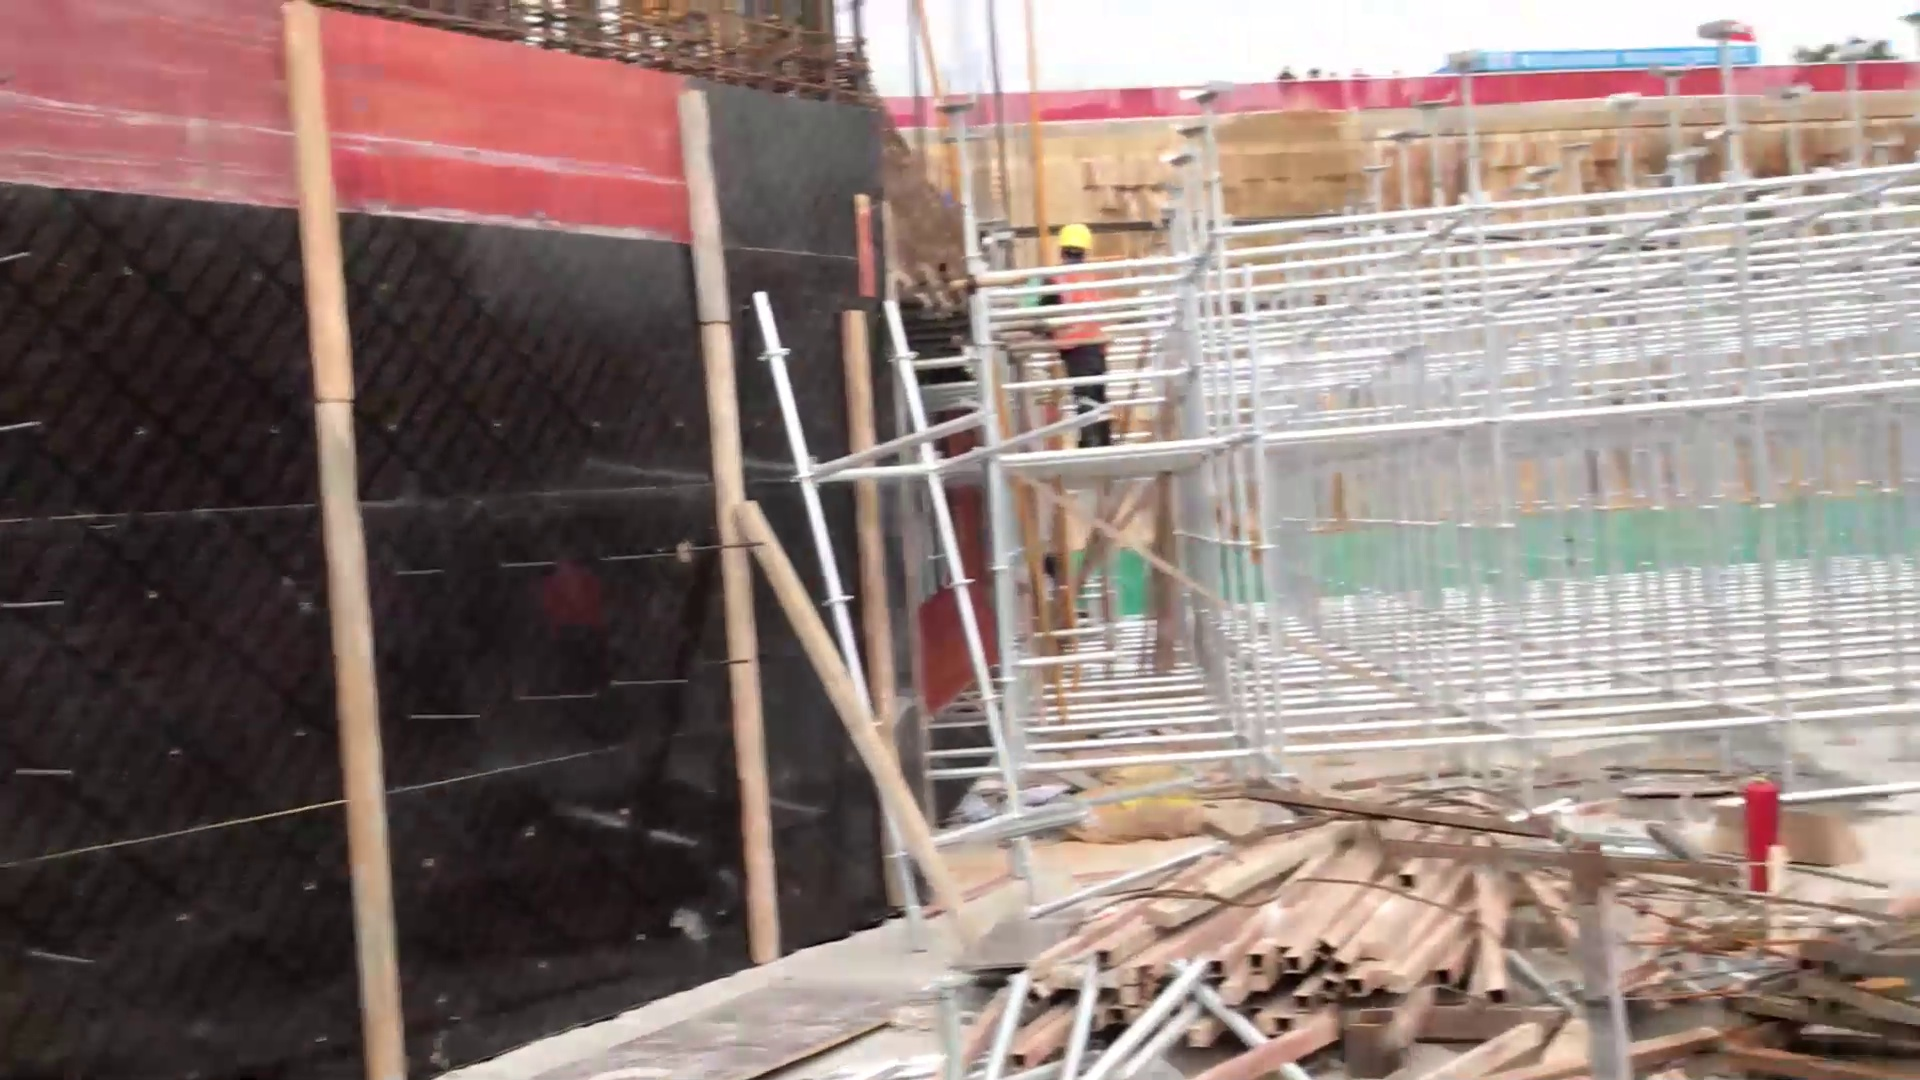helmet: (1050, 219, 1098, 260)
person: (1041, 215, 1131, 462)
vest: (1043, 262, 1115, 362)
